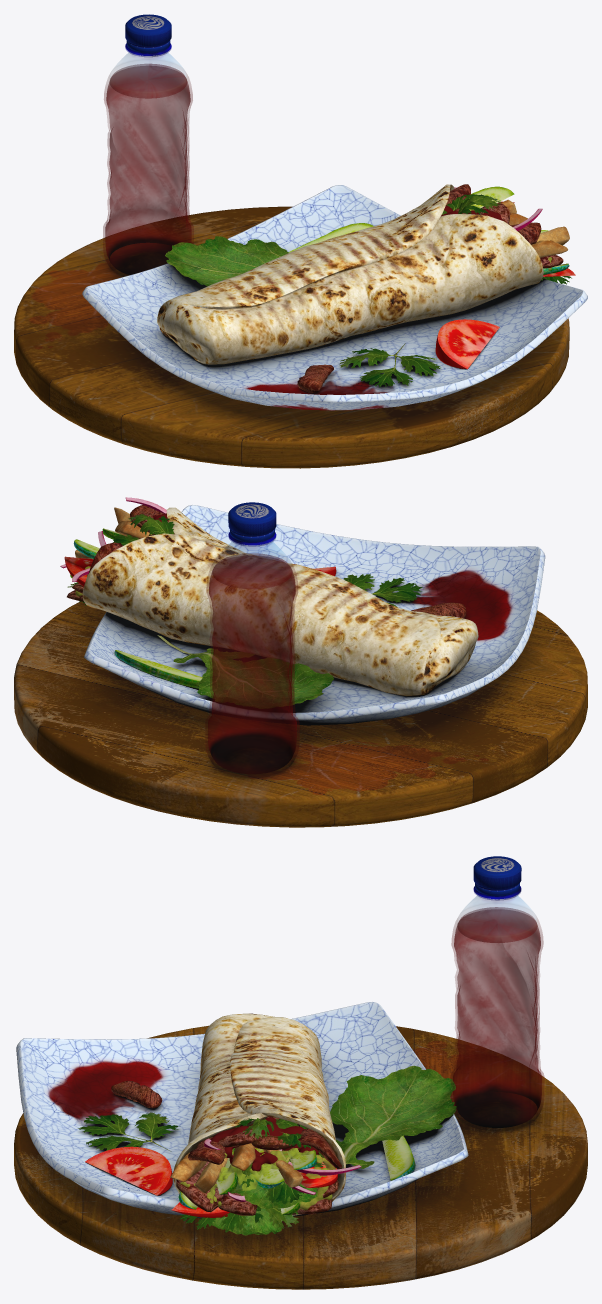
The picture shows the model from 3 angles, top to bottom: view 1: azimuth 30°, elevation 25°; view 2: azimuth 150°, elevation 25°; view 3: azimuth 270°, elevation 25°; orthographic projection. The views are drawn at different scales.
Visible parts, largest first — view 1: Table, shava.002, tarelka, botl_inside, botl_base, salat032, tomato, petrushka23, botle_cap, potato, petrushka030, meat24; view 2: Table, shava.002, tarelka, botl_inside, botl_base, salat032, botle_cap, ogurec33, petrushka23, petrushka030, meat24, potato (+1 smaller); view 3: Table, tarelka, botl_inside, botl_base, shava.002, salat032, tomato, petrushka23, botle_cap, cheez, potato, mayonez (+14 smaller).
Boxes of the visible parts, x1,y1,x2,y2 form: Table: [14, 206, 569, 468]; shava.002: [157, 184, 543, 364]; tarelka: [82, 185, 587, 410]; botl_inside: [105, 63, 191, 275]; botl_base: [103, 48, 193, 276]; salat032: [165, 236, 288, 286]; tomato: [435, 319, 499, 369]; petrushka23: [339, 343, 440, 387]; botle_cap: [125, 14, 171, 55]; potato: [509, 212, 569, 257]; petrushka030: [441, 194, 500, 228]; meat24: [297, 364, 333, 392]; Table: [14, 601, 587, 827]; shava.002: [82, 507, 478, 696]; tarelka: [84, 505, 545, 725]; botl_inside: [208, 553, 296, 774]; botl_base: [205, 538, 299, 776]; salat032: [157, 635, 333, 708]; botle_cap: [228, 502, 276, 545]; ogurec33: [114, 650, 202, 688]; petrushka23: [343, 574, 422, 606]; petrushka030: [113, 513, 174, 545]; meat24: [411, 602, 466, 618]; potato: [114, 507, 151, 538]; Table: [14, 1025, 587, 1289]; tarelka: [16, 1002, 468, 1218]; botl_inside: [453, 907, 541, 1127]; botl_base: [450, 892, 544, 1130]; shava.002: [173, 1013, 345, 1215]; salat032: [318, 1065, 456, 1168]; tomato: [85, 1146, 172, 1195]; petrushka23: [78, 1112, 179, 1151]; botle_cap: [473, 856, 521, 899]; cheez: [178, 1148, 335, 1210]; potato: [170, 1143, 255, 1193]; mayonez: [210, 1117, 319, 1171].
Bounding box in the file's own units: 0.7059 × 0.3798 × 0.7053.
Materials: 9 (8 with a texture image).
